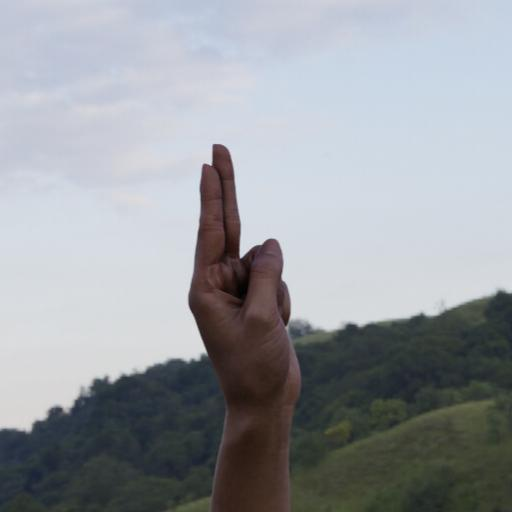U: (180, 137, 312, 426)
